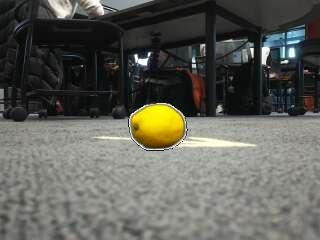lemon: (131, 105, 184, 149)
